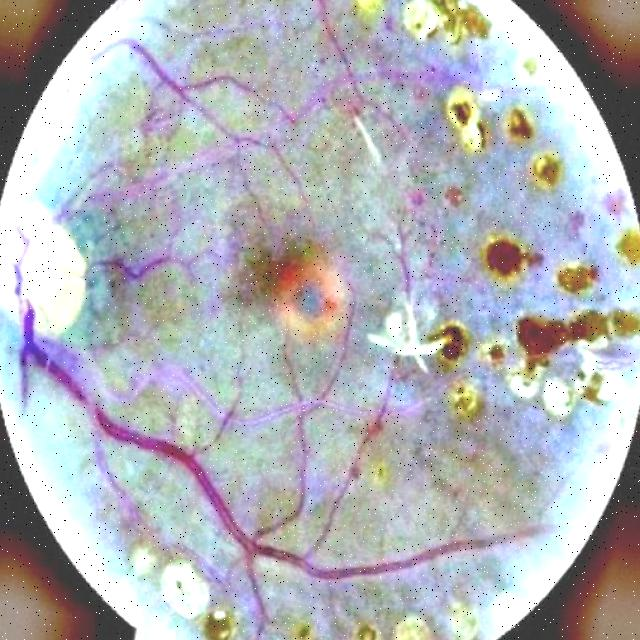Macula: (259, 245, 348, 340)
